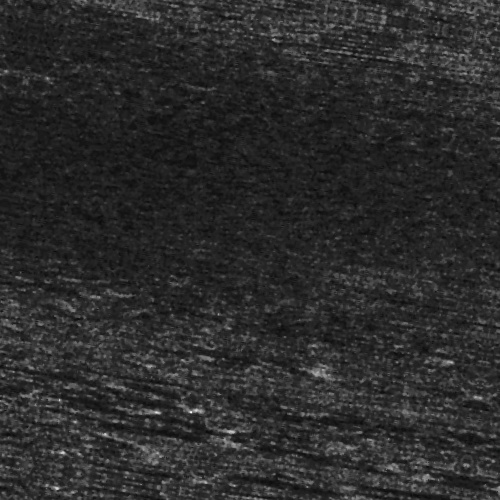object: (372, 469, 413, 476), (69, 497, 142, 500), (203, 481, 256, 484), (263, 440, 294, 443)
shadow: (363, 457, 500, 464), (255, 469, 392, 476), (126, 440, 279, 443), (0, 497, 105, 500), (158, 481, 230, 484), (481, 465, 500, 470)
